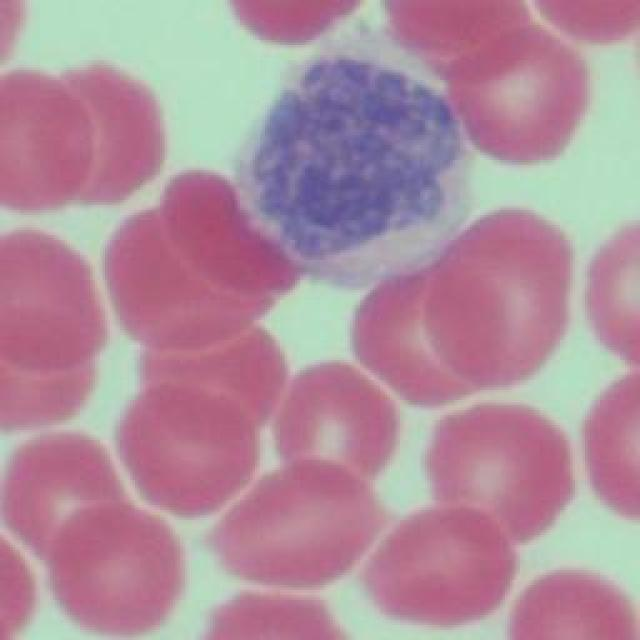RBC: (431, 211, 574, 389), (107, 208, 285, 340), (204, 468, 384, 588), (352, 273, 502, 405), (448, 27, 590, 165), (433, 405, 575, 540), (363, 505, 515, 627), (119, 384, 259, 516), (4, 430, 134, 570), (162, 171, 308, 294), (50, 507, 188, 635), (52, 60, 166, 205), (144, 318, 286, 434), (0, 230, 105, 378), (282, 361, 400, 491), (0, 68, 95, 214), (381, 0, 531, 85), (0, 312, 98, 428), (508, 572, 638, 640), (585, 226, 640, 369), (585, 375, 640, 513), (201, 592, 351, 640), (222, 0, 369, 42), (530, 0, 640, 42), (0, 537, 35, 640)
WBC: (238, 41, 478, 291)
